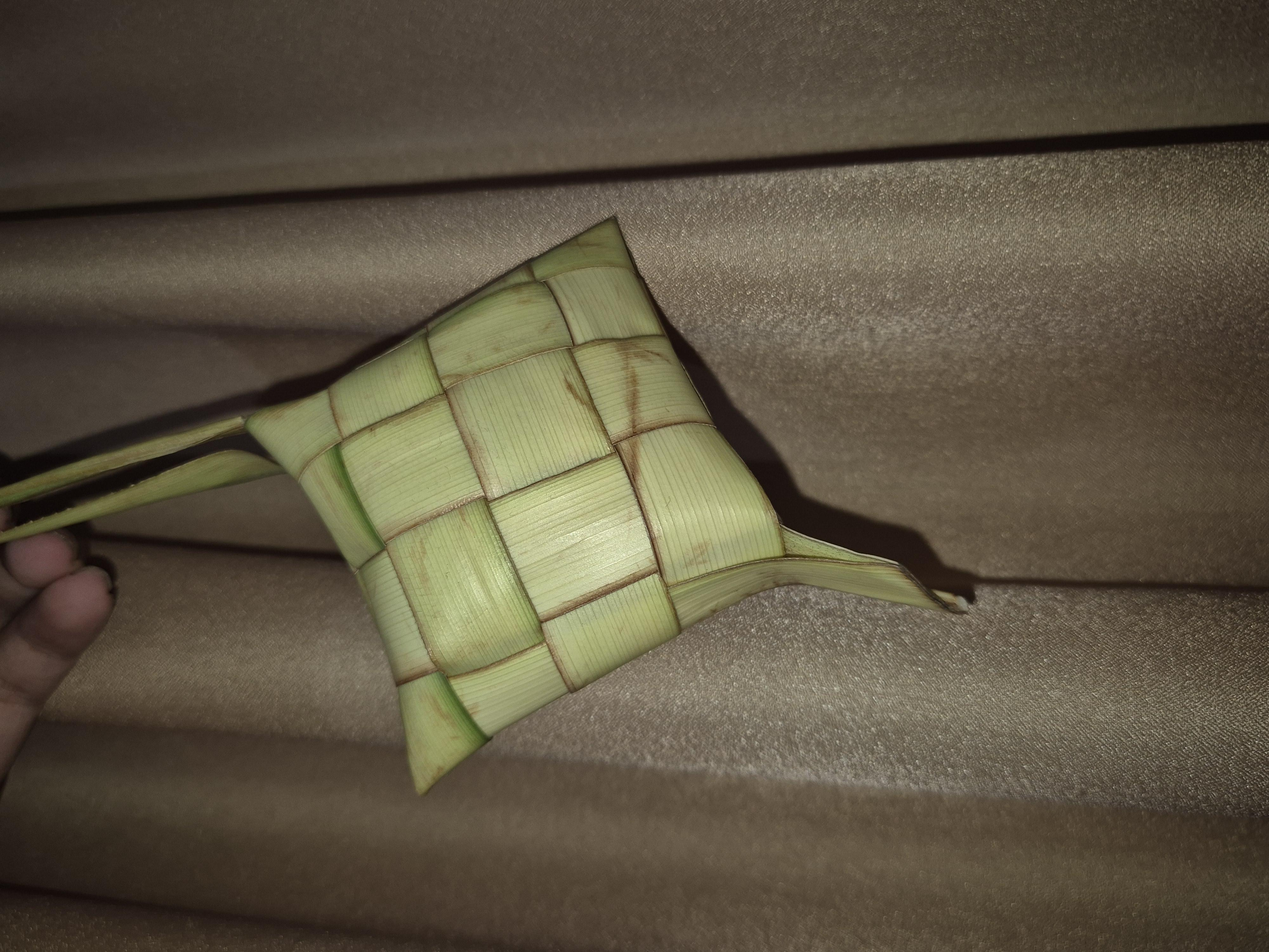Tipat Nasi: (215, 184, 973, 595)
